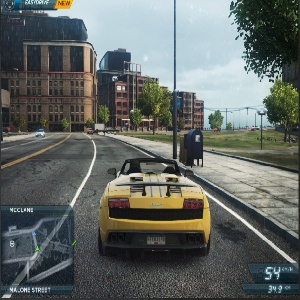building: (3, 10, 96, 131), (98, 49, 163, 135), (163, 86, 209, 134)
mailbox: (181, 128, 207, 168)
tree: (262, 80, 300, 147), (140, 80, 168, 138), (95, 103, 110, 131), (128, 109, 143, 136), (209, 109, 225, 133), (12, 114, 26, 136), (60, 116, 70, 135), (40, 116, 50, 132)
vehicle: (85, 126, 97, 135), (36, 128, 46, 138)
